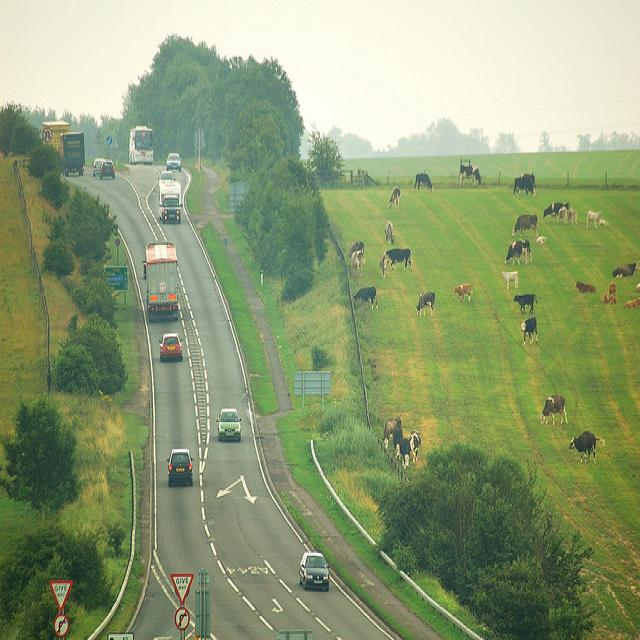Vehicle: (143, 240, 178, 324), (298, 551, 330, 592), (166, 449, 195, 488), (61, 132, 85, 177), (128, 125, 154, 165), (159, 179, 182, 224), (40, 119, 70, 153), (218, 408, 241, 442), (158, 335, 183, 363), (166, 152, 183, 171), (100, 161, 115, 179), (92, 158, 104, 177), (160, 172, 173, 180)
